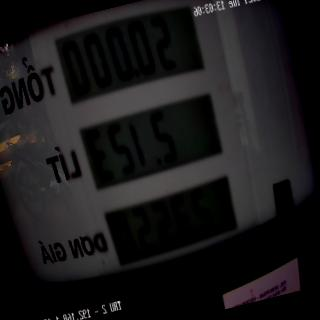screen: (44, 0, 257, 289)
